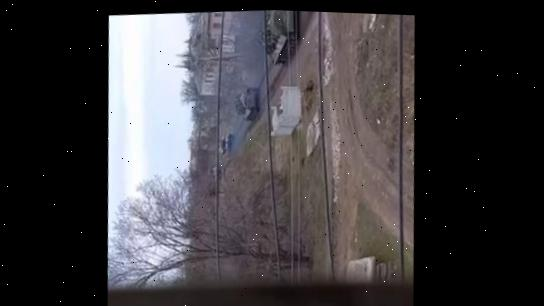tank: (254, 10, 303, 65), (231, 85, 262, 122), (214, 131, 236, 158)
